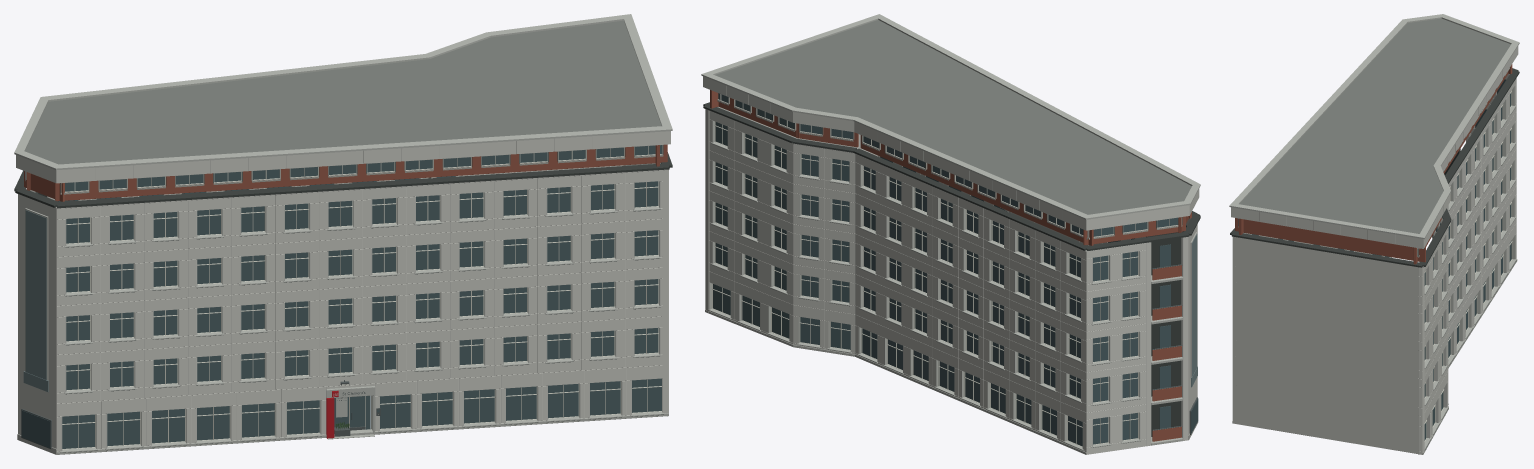
File: stc-exterior-3051ebe8c77e.glb
3 views of the same model, side by side, from view 1: azimuth 30°, elevation 25°; view 2: azimuth 150°, elevation 25°; view 3: azimuth 270°, elevation 25° (orthographic). The views are drawn at different scales.
Visible parts, largest first — view 1: STC.001; view 2: STC.001; view 3: STC.001.
Boxes of the visible parts, x1=… form: STC.001: x1=14, y1=14, x2=672, y2=454; STC.001: x1=701, y1=14, x2=1200, y2=454; STC.001: x1=1229, y1=14, x2=1519, y2=454.
Size of the model in its own units: 45.99 by 20.91 by 25.19.
